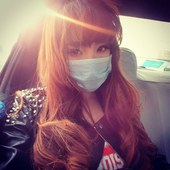face_mask: (57, 17, 114, 91)
